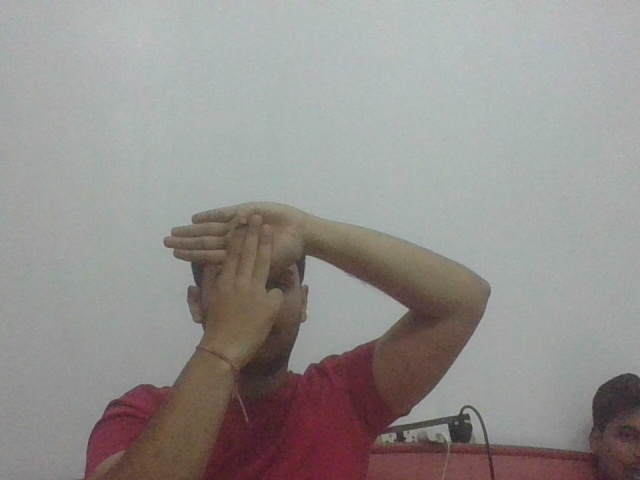M: (162, 197, 305, 345)
